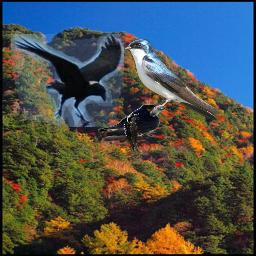Crow: (11, 34, 124, 127)
Swallow: (124, 39, 222, 121), (98, 104, 165, 141)
Woodpecker: (122, 111, 141, 154)
